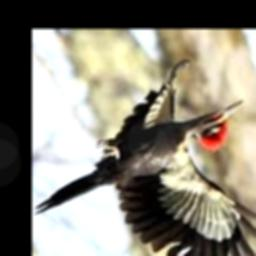Woodpecker: (34, 61, 256, 256)
